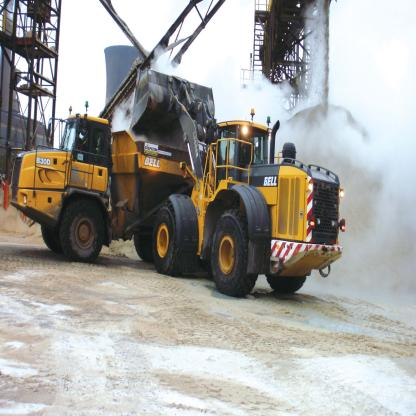bull_dozer/loader/grader: (132, 66, 343, 294)
dump_truck: (6, 97, 197, 265)
